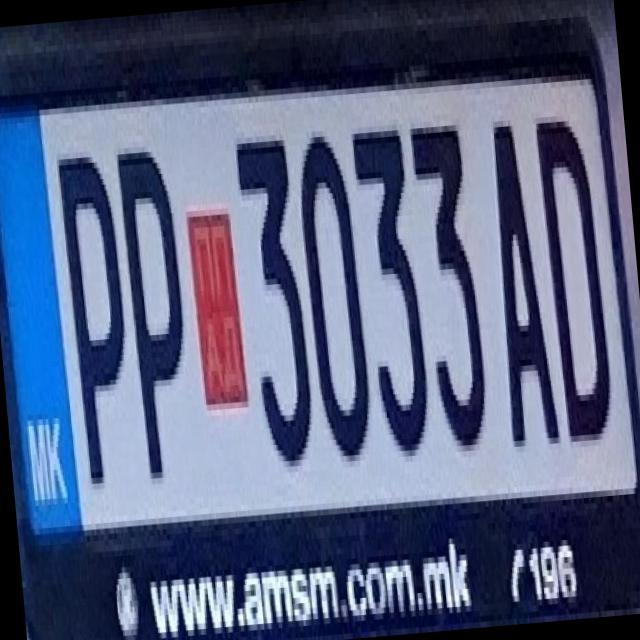0: (290, 118, 372, 464)
3: (338, 100, 438, 460), (395, 89, 494, 449), (223, 110, 321, 469)
A: (472, 101, 558, 454)
D: (520, 89, 628, 449)
P: (102, 120, 201, 486), (47, 126, 141, 490)
